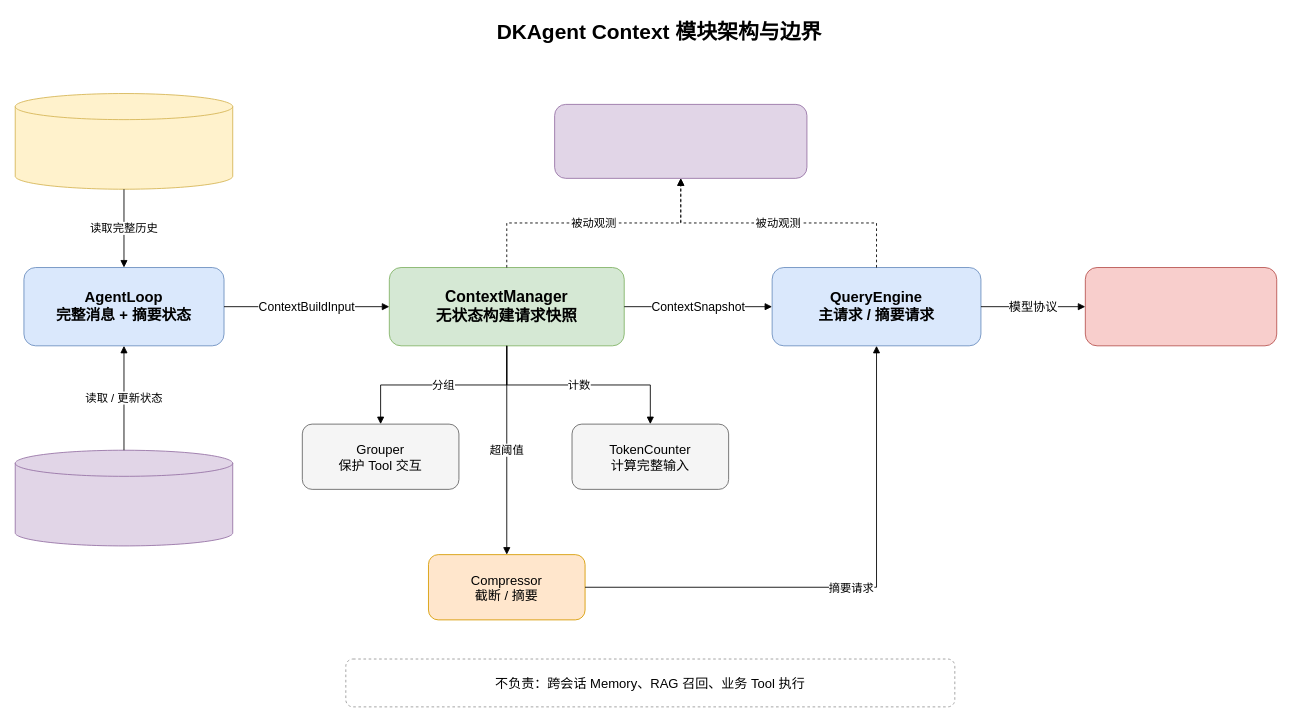
Some shapes in this 1292 by 722 pixel diagram are drawn without their labels. The centre of each missing label's shape, as x and y in pixels:
"Canonical History messages[] 只追加，不被压缩修改" belongs at point (123, 141).
"ConversationContextState summary firstKeptMessageIndex" belongs at point (123, 497).
"LLM Provider Stream + Token Count" belongs at point (1180, 306).
"Tracer 阈值、压缩计划、摘要、最终指标" belongs at point (680, 141).
